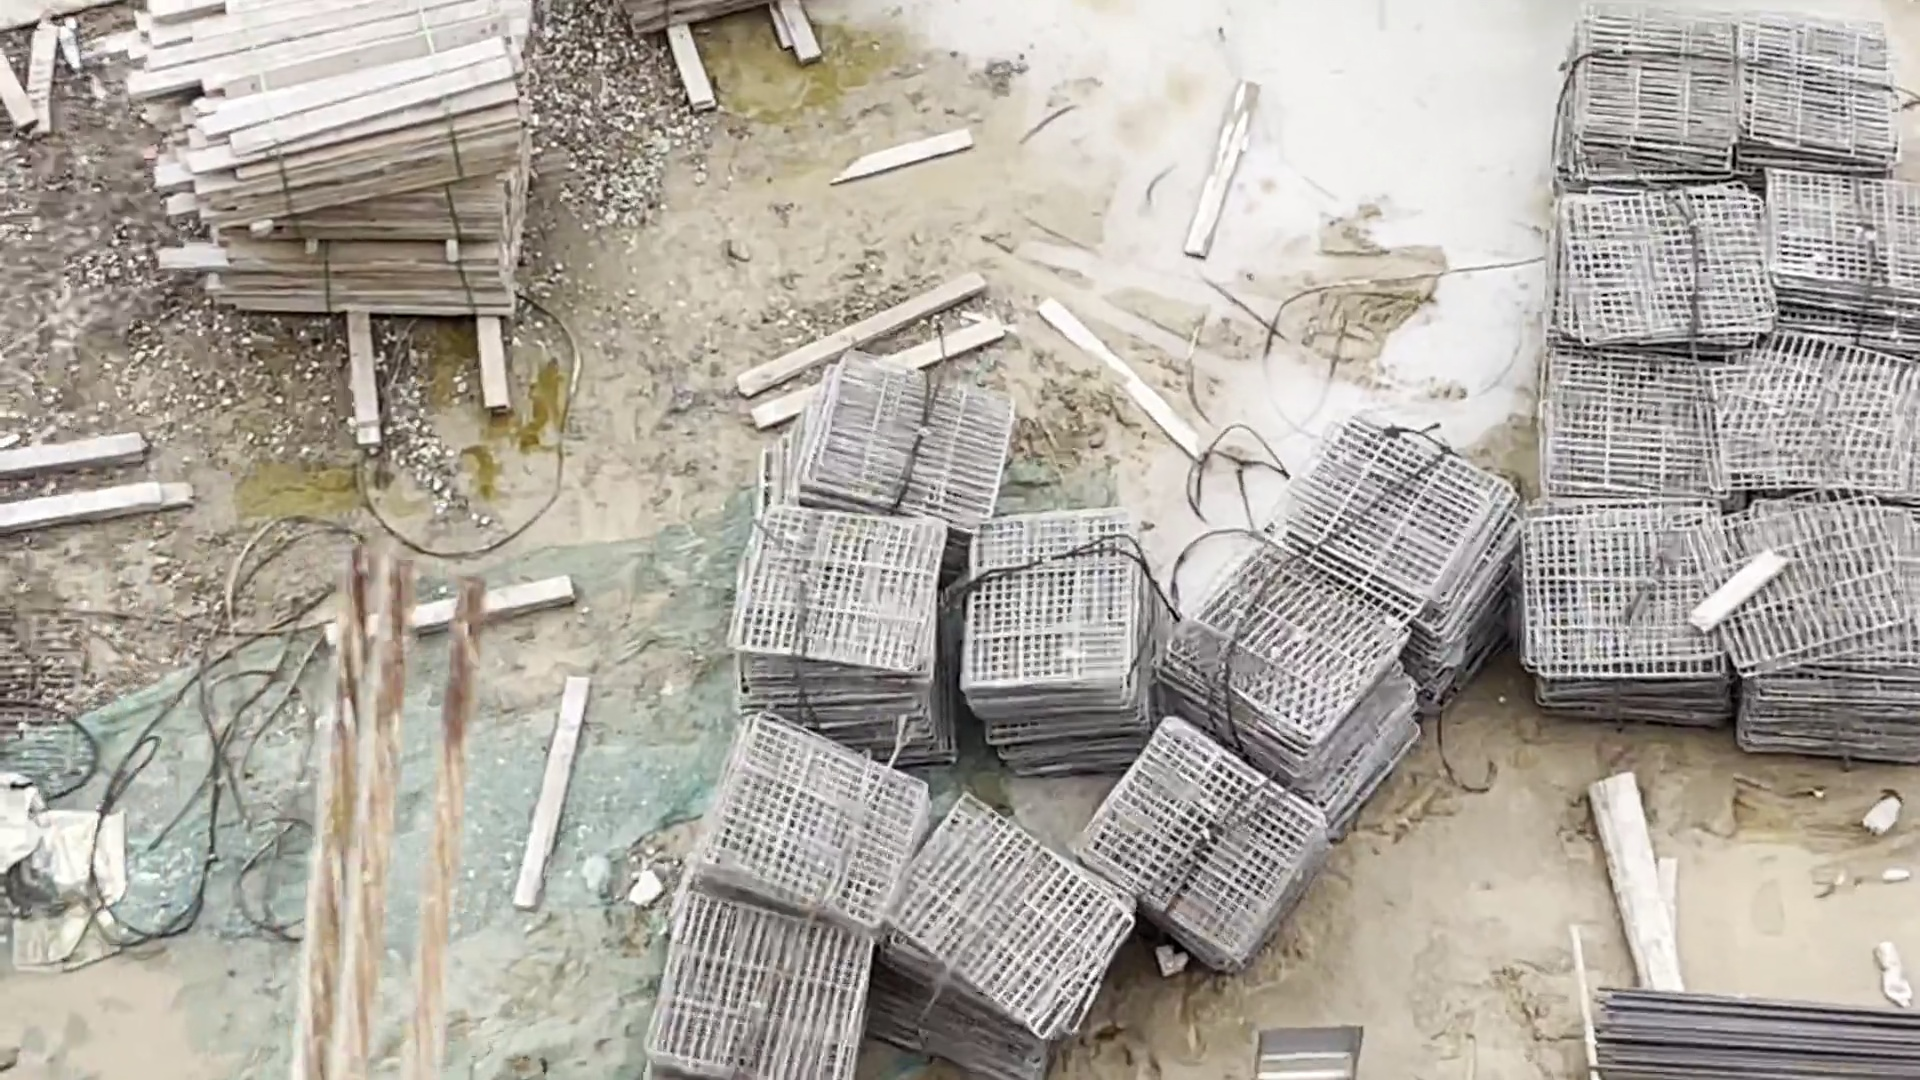wood: (142, 7, 531, 323)
